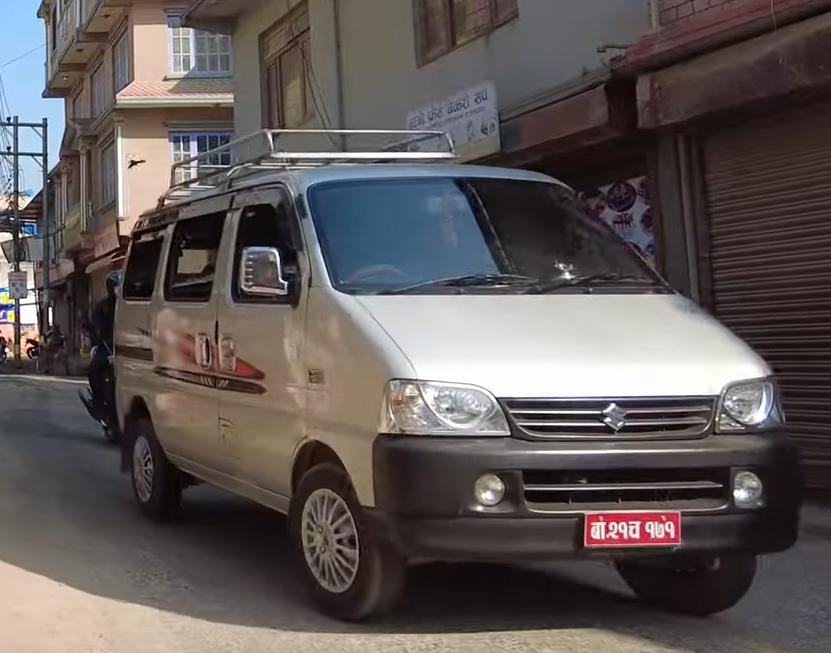van: (99, 120, 813, 627)
